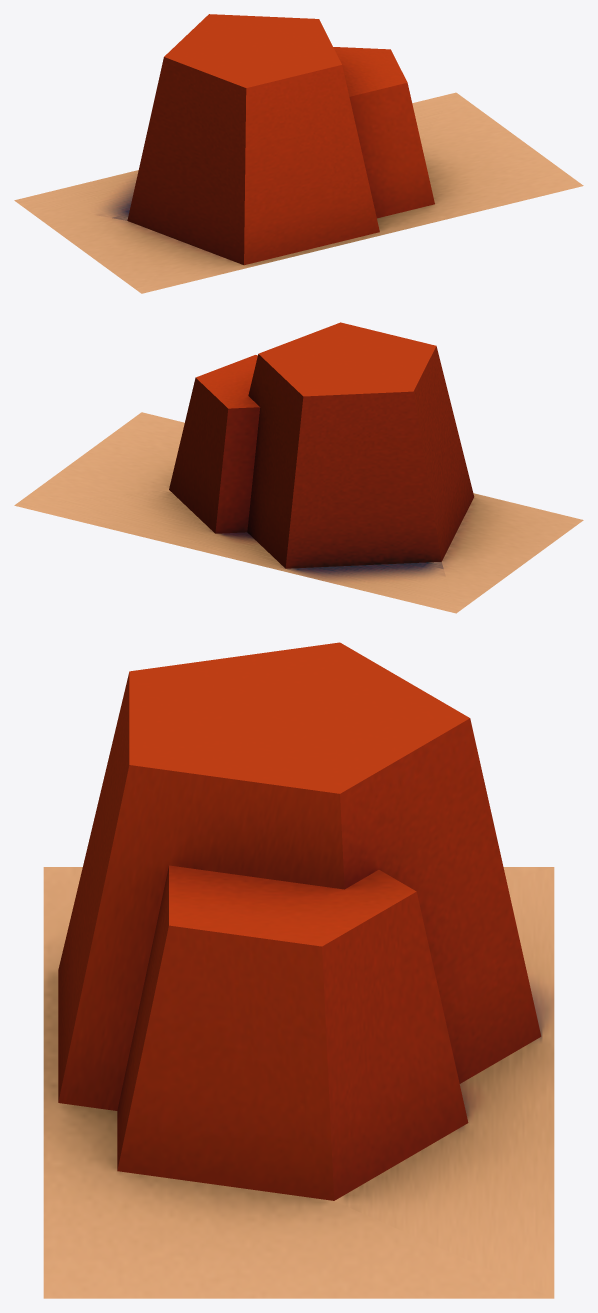
Rendered from stone1.gltf.
3 views of the same model, one above another, from view 1: azimuth 30°, elevation 25°; view 2: azimuth 150°, elevation 25°; view 3: azimuth 270°, elevation 25° (orthographic). The views are drawn at different scales.
Parts seen in each view (by area): view 1: Cylinder; view 2: Cylinder; view 3: Cylinder.
Boxes of the visible parts, x1,y1,x2,y2 form: Cylinder: [14, 14, 583, 293]; Cylinder: [14, 322, 583, 613]; Cylinder: [43, 642, 554, 1298].
Bounding box in the file's own units: 1 × 0.344 × 0.5.
Materials: 2 (2 with a texture image).
